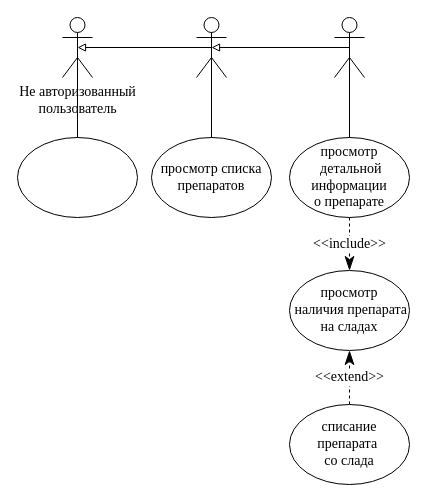
Image size: 427x502. Some labels were removed from this diagram. Each missing label, with the centre of its shape:
"Авторизованный пользователь" belongs at (349,47).
"авторизоваться" belongs at (77,177).
"Гость" belongs at (211,47).
